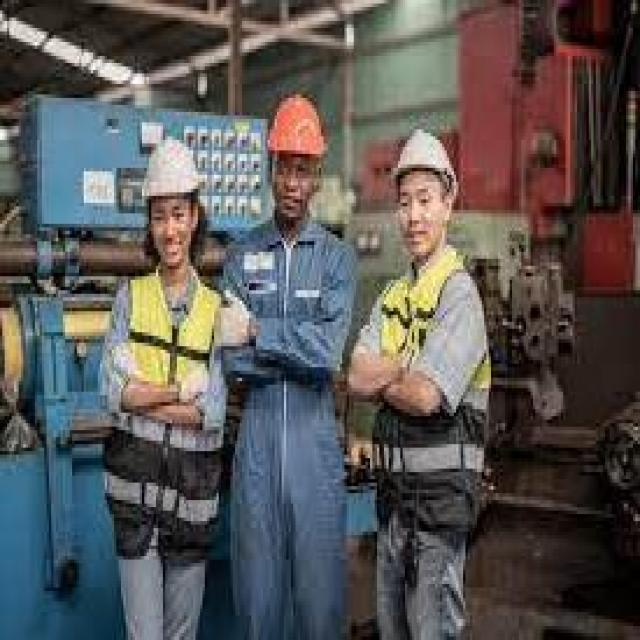Reflective-Jacket: (351, 238, 505, 430), (102, 258, 242, 454)
Safety-Helmet: (382, 115, 472, 210), (256, 84, 337, 171), (138, 129, 210, 210)
